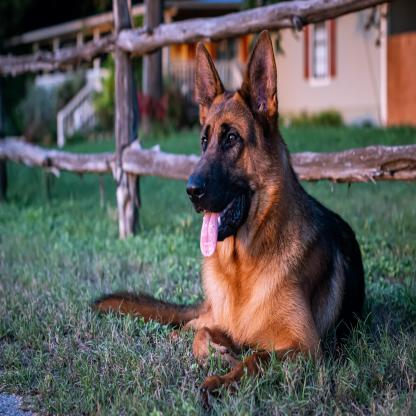german shepherd: (94, 27, 368, 384)
